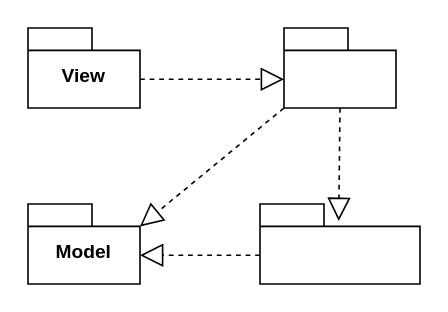
This 448x312 diagram has some shape labels left out. Each missing label, with the box of its shape:
Controller: (282, 26, 396, 108)
ControllerDAO: (258, 202, 420, 284)
